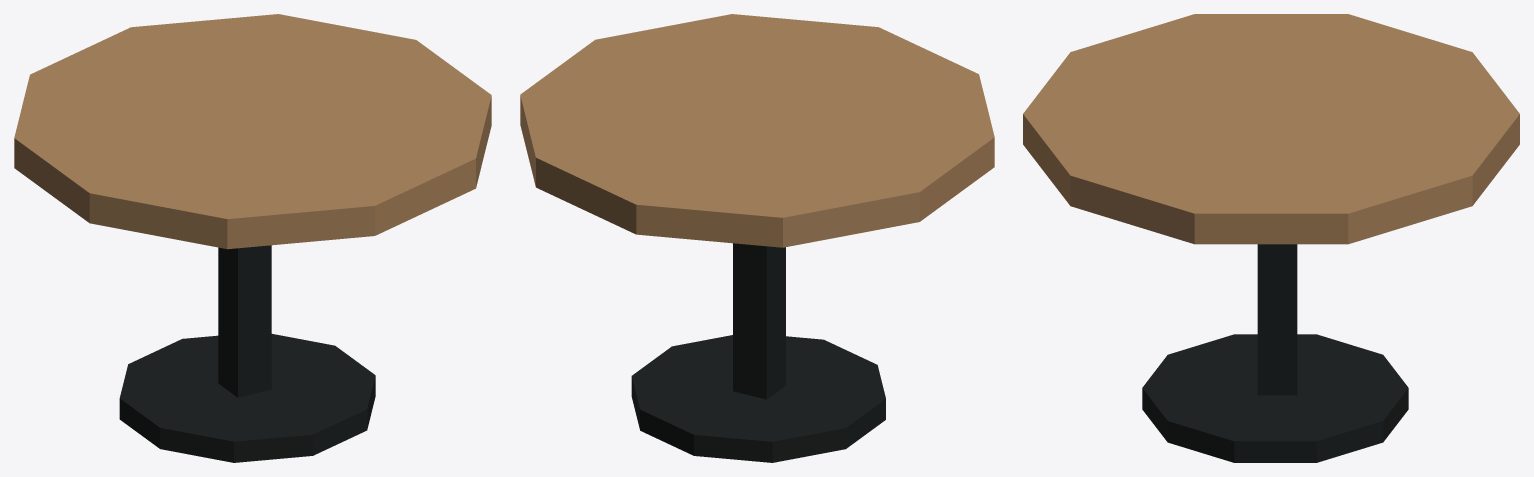
Rendered from good.glb.
The picture shows the model from 3 angles, left to right: view 1: azimuth 30°, elevation 25°; view 2: azimuth 150°, elevation 25°; view 3: azimuth 270°, elevation 25°; orthographic projection. The views are drawn at different scales.
Visible parts, largest first — view 1: starbucksTable_2, starbucksTable_0, starbucksTable_1; view 2: starbucksTable_2, starbucksTable_0, starbucksTable_1; view 3: starbucksTable_2, starbucksTable_0, starbucksTable_1.
Boxes of the visible parts, left/top/right/bottom form: starbucksTable_2: left=14, top=14, right=491, bottom=249; starbucksTable_0: left=119, top=334, right=375, bottom=462; starbucksTable_1: left=218, top=245, right=271, bottom=397; starbucksTable_2: left=520, top=14, right=994, bottom=247; starbucksTable_0: left=631, top=335, right=885, bottom=462; starbucksTable_1: left=733, top=243, right=785, bottom=399; starbucksTable_2: left=1023, top=14, right=1519, bottom=244; starbucksTable_0: left=1142, top=334, right=1408, bottom=462; starbucksTable_1: left=1257, top=244, right=1297, bottom=395.
Size of the model in its own units: 1.19 by 0.825 by 1.25.
